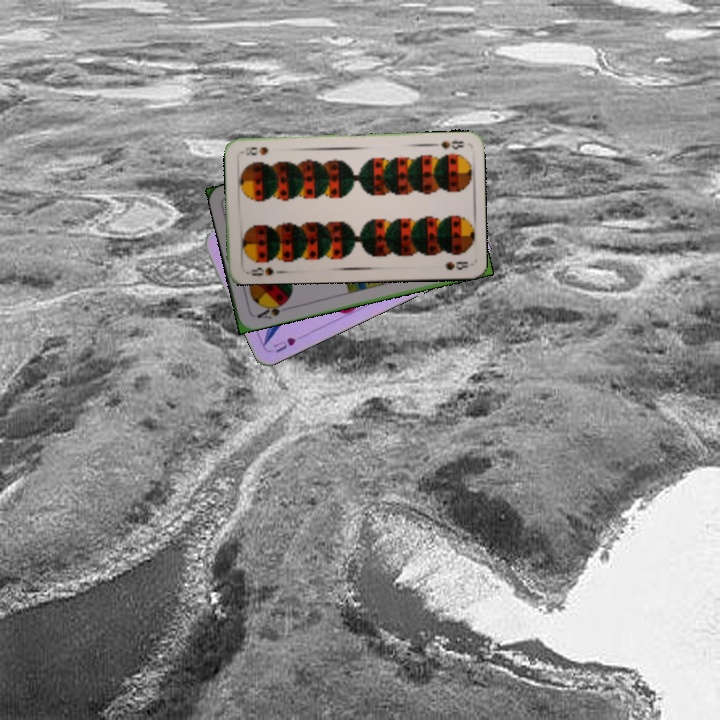HU: (269, 333, 298, 356)
S8: (427, 136, 466, 152), (242, 263, 276, 278)
SA: (253, 298, 289, 321)
